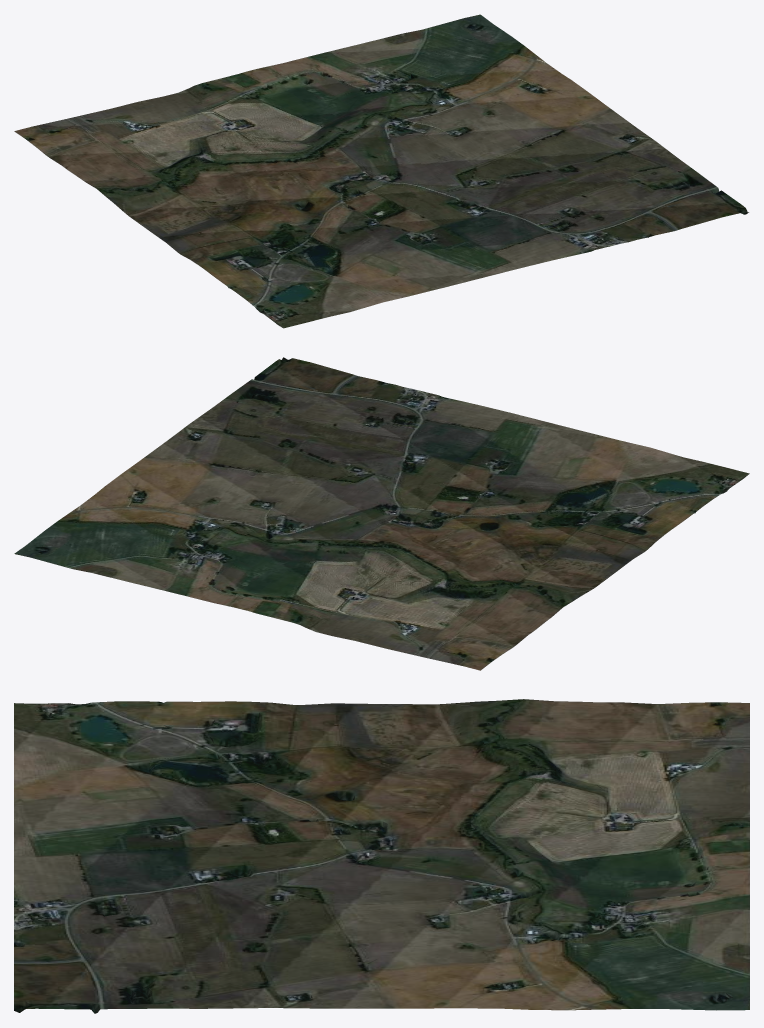
The model's file is map_10_250_429.dae.
The picture shows the model from 3 angles, top to bottom: view 1: azimuth 30°, elevation 25°; view 2: azimuth 150°, elevation 25°; view 3: azimuth 270°, elevation 25°; orthographic projection. The views are drawn at different scales.
Parts seen in each view (by area): view 1: Ter0; view 2: Ter0; view 3: Ter0.
Part boxes in pixels (box(x1,y1,x2,y2)): Ter0: box(14, 14, 748, 328); Ter0: box(14, 357, 749, 670); Ter0: box(14, 699, 749, 1013).
Bounding box in the file's own units: 2044 × 2044 × 36.17.
Materials: 3 (3 with a texture image).
